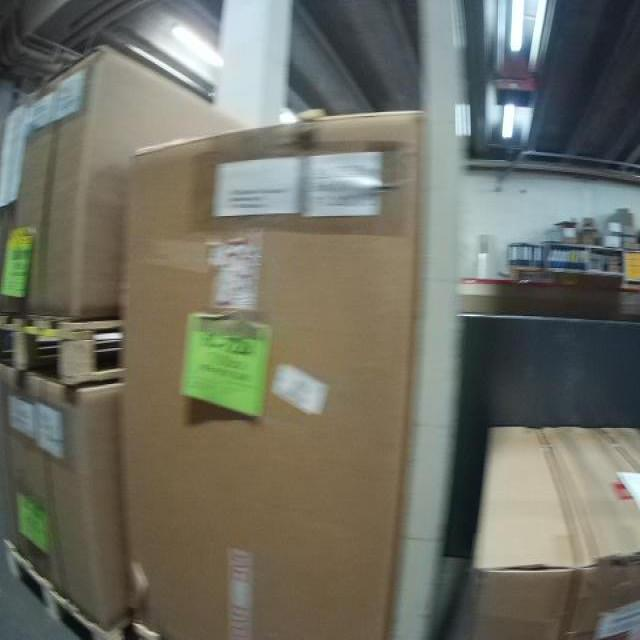pallet: (3, 540, 132, 640), (0, 306, 124, 390)
